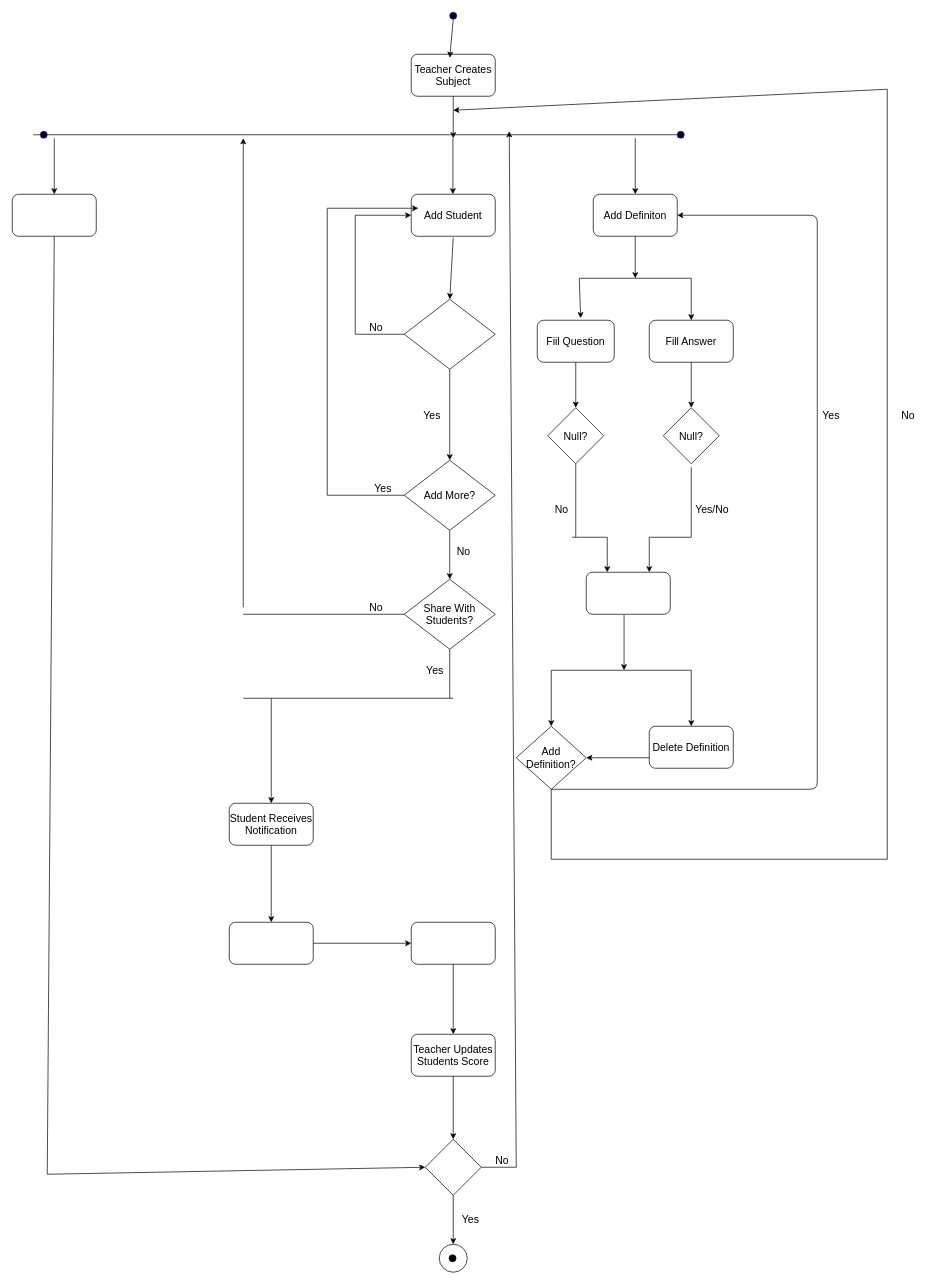
The diagram is 935 pixels wide and 1285 high, and some of its shapes have lost their labels. Each missing label, with the centre of its shape:
"Definition Is Formed" goes at point 628,593.
"Delete Subject" goes at point 54,215.
"Does Student Exist?" goes at point 449,334.
"Finish?" goes at point 453,1167.
"Student Taking Quiz" goes at point 271,943.
"Teacher Receives Notification" goes at point 453,943.
